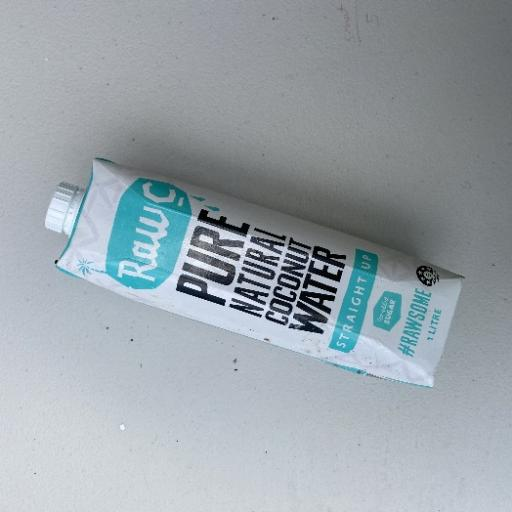Cardboard: (44, 154, 467, 390)
